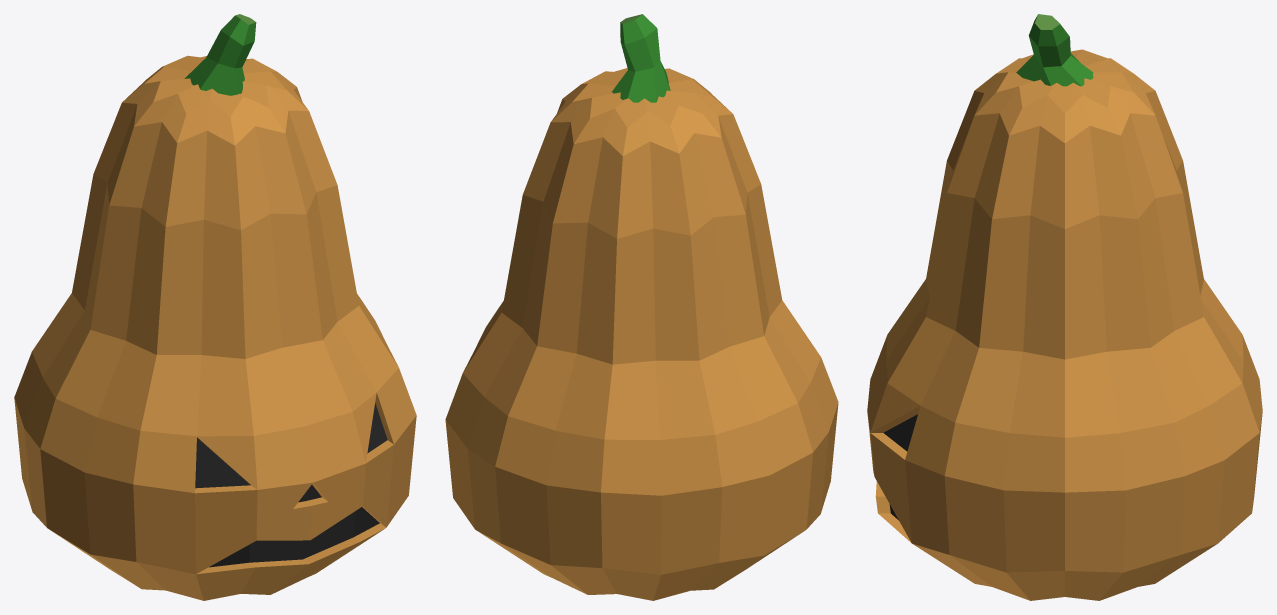
Rendered from pumpkin_2_black_mat.fbx.
3 views of the same model, side by side, from view 1: azimuth 30°, elevation 25°; view 2: azimuth 150°, elevation 25°; view 3: azimuth 270°, elevation 25° (orthographic). The views are drawn at different scales.
Visible parts, largest first — view 1: pumpkin_2_black_mat; view 2: pumpkin_2_black_mat; view 3: pumpkin_2_black_mat.
Boxes of the visible parts, <box> form: pumpkin_2_black_mat: <box>14,14,416,600</box>; pumpkin_2_black_mat: <box>445,14,838,600</box>; pumpkin_2_black_mat: <box>867,14,1262,600</box>.
Size of the model in its own units: 186 by 275 by 180.
